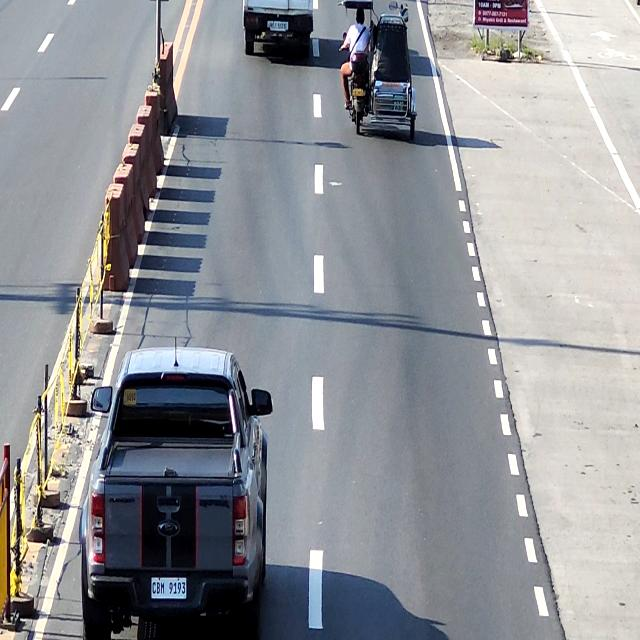Car: (77, 346, 272, 640)
License-Plate: (151, 578, 186, 598), (270, 22, 286, 32), (352, 88, 363, 96)
Tricycle: (337, 0, 417, 141)
Truck: (243, 0, 313, 57)
